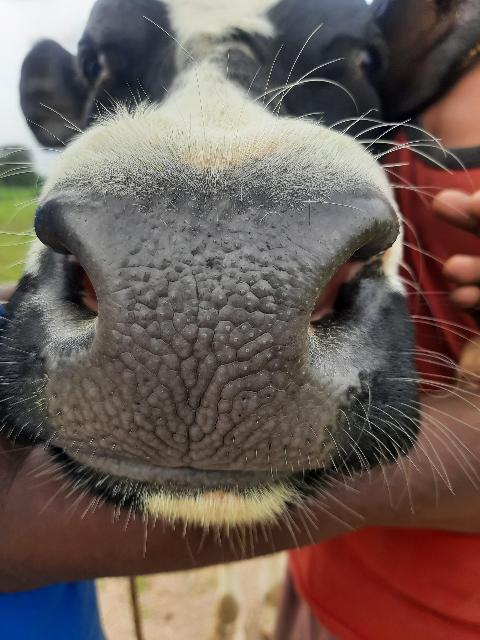Muzzle: (54, 192, 340, 463)
